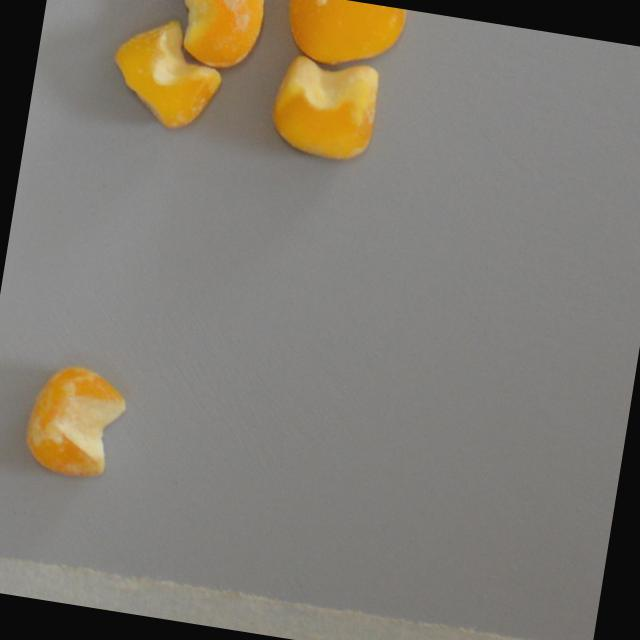dañado: (100, 8, 235, 140), (16, 354, 136, 490), (262, 46, 391, 170), (276, 0, 412, 79), (163, 0, 268, 75)
